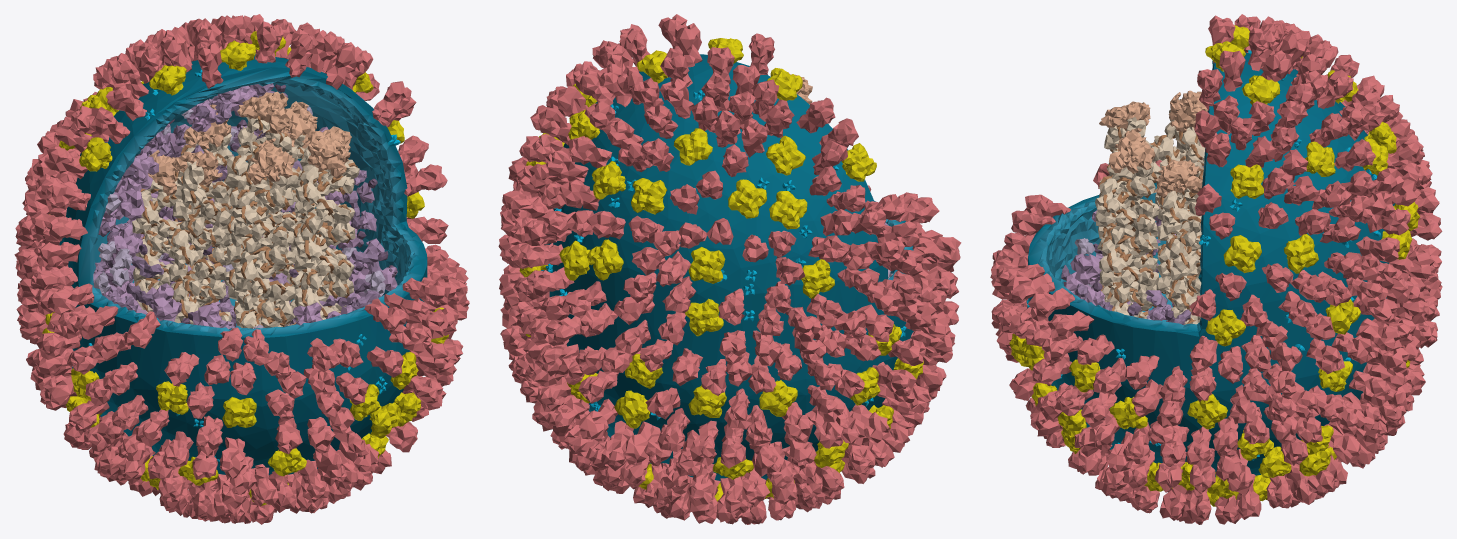
The model's file is virus-influenza-pathogenar-cutaway-nih.glb.
3 renders of one model, left to right at view 1: azimuth 30°, elevation 25°; view 2: azimuth 150°, elevation 25°; view 3: azimuth 270°, elevation 25°, orthographic. The views are drawn at different scales.
Parts seen in each view (by area): view 1: Influenza_0.ply; view 2: Influenza_0.ply; view 3: Influenza_0.ply.
Part boxes in pixels (bbox=[...]): Influenza_0.ply: bbox=[14, 14, 469, 524]; Influenza_0.ply: bbox=[498, 14, 961, 524]; Influenza_0.ply: bbox=[990, 14, 1442, 524].
Bounding box in the file's own units: 1.74 × 1.98 × 1.73.
